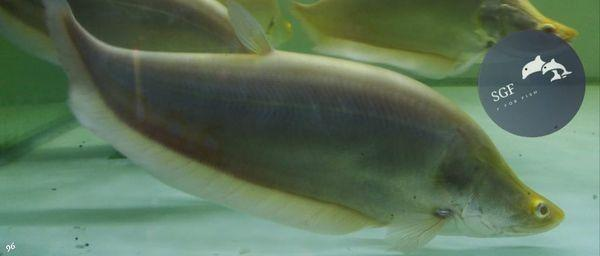Knifefish: (49, 0, 566, 250)
